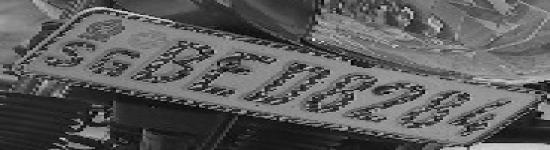2: (332, 73, 437, 129)
4: (429, 92, 526, 140)
8: (385, 82, 489, 134), (287, 66, 388, 119)
B: (121, 33, 229, 92)
D: (229, 55, 345, 111)
E: (178, 42, 287, 101)
G: (77, 42, 148, 83)
S: (32, 36, 110, 72)
